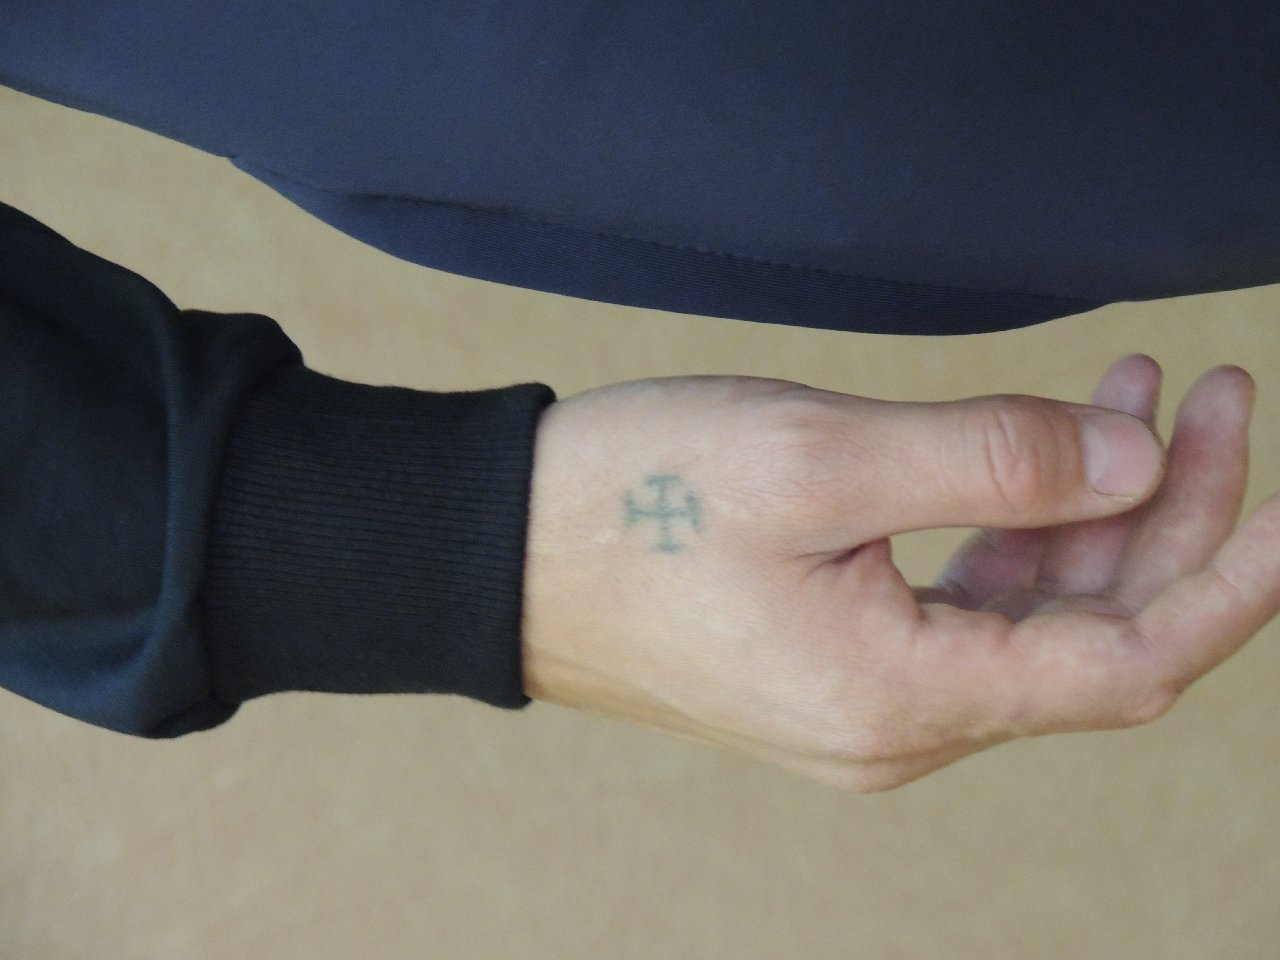tatu9_krest: (610, 468, 716, 566)
